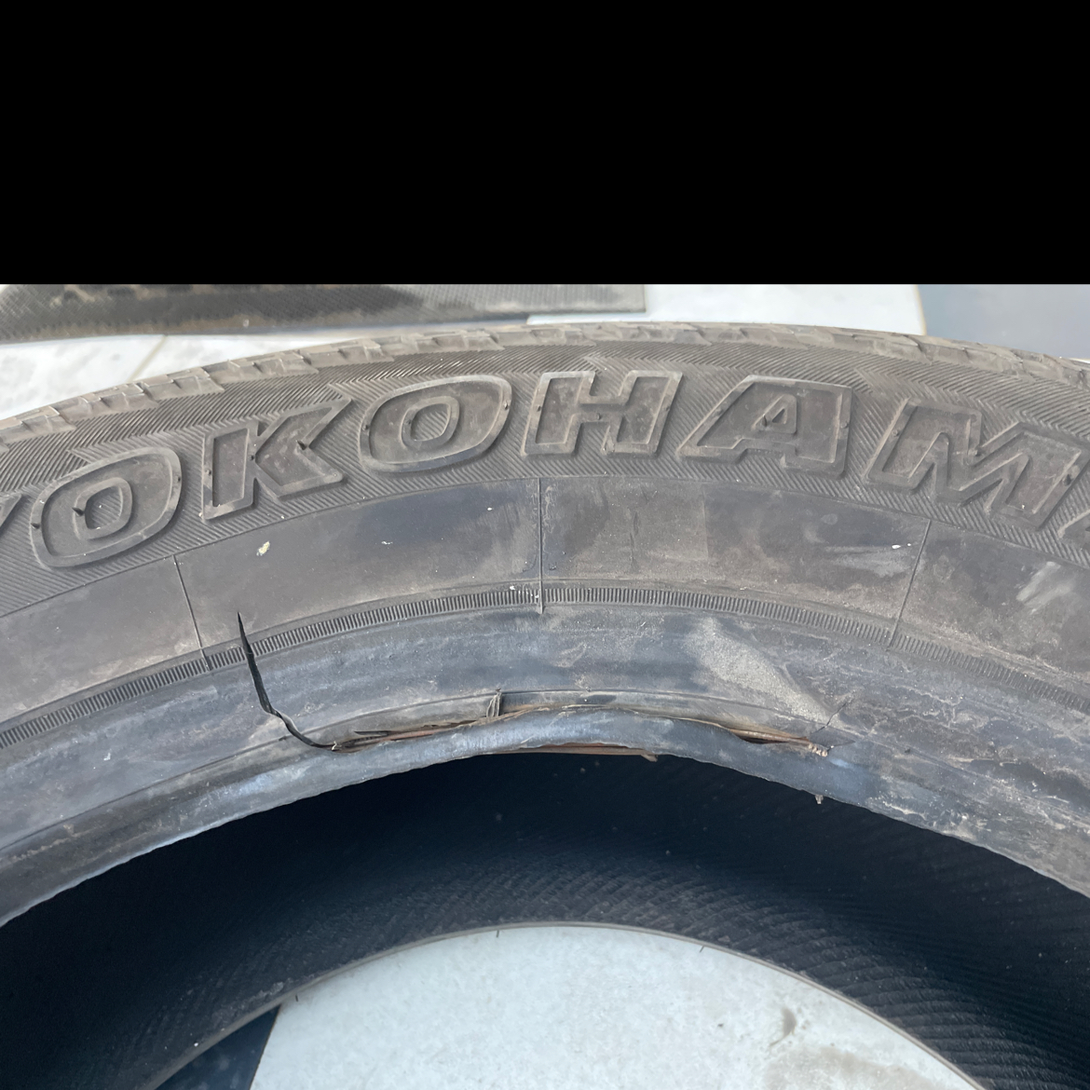bead_damage: (220, 587, 861, 803)
